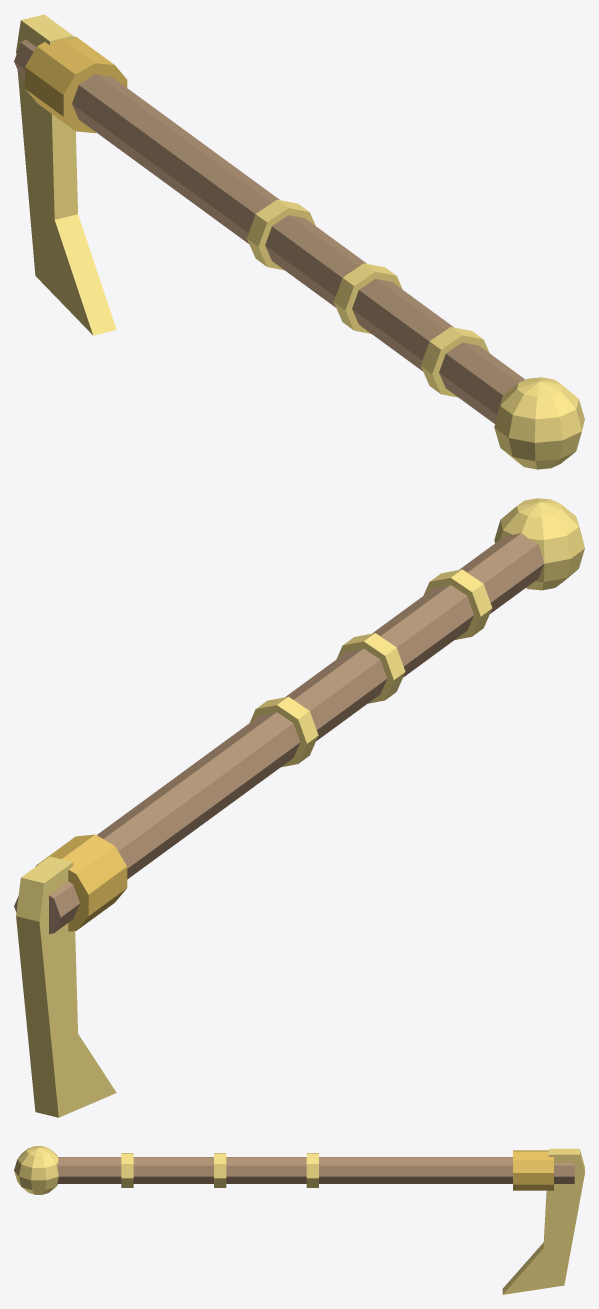
File: gold_hoe_held.gltf
3 renders of one model, top to bottom at view 1: azimuth 30°, elevation 25°; view 2: azimuth 150°, elevation 25°; view 3: azimuth 270°, elevation 25°, orthographic. The views are drawn at different scales.
Parts seen in each view (by area): view 1: furnace_gold_hoe_held; view 2: furnace_gold_hoe_held; view 3: furnace_gold_hoe_held.
Part boxes in pixels (x1,y1,x2,y2): furnace_gold_hoe_held: (14, 14, 584, 469); furnace_gold_hoe_held: (14, 498, 584, 1117); furnace_gold_hoe_held: (14, 1146, 584, 1294).
Bounding box in the file's own units: 0.0457 × 0.154 × 0.554.
